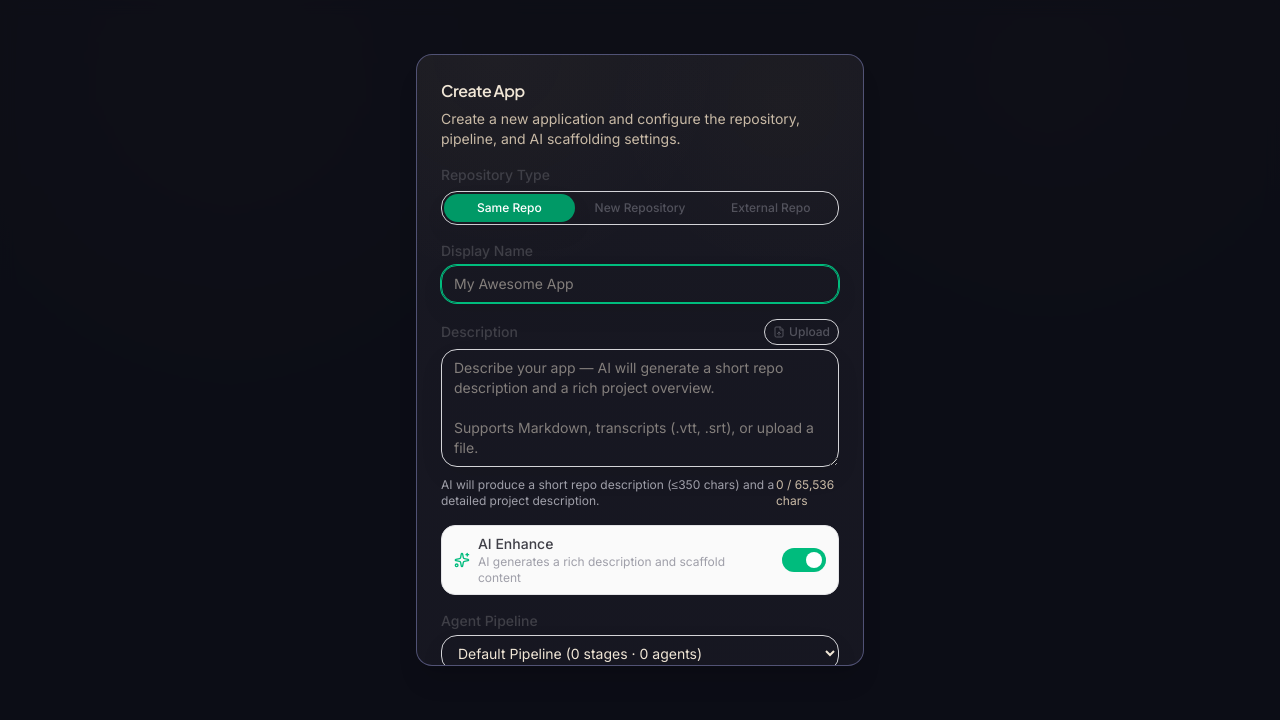
Test: CreateAppDialog — removed fields and layout changes › rejects display names that cannot produce a slug
The width and height of the screenshot is (1280, 720).
Type "!!!" into the field labelled "Display Name" at (640, 284), box [441,265,839,303]
(page scrolled)
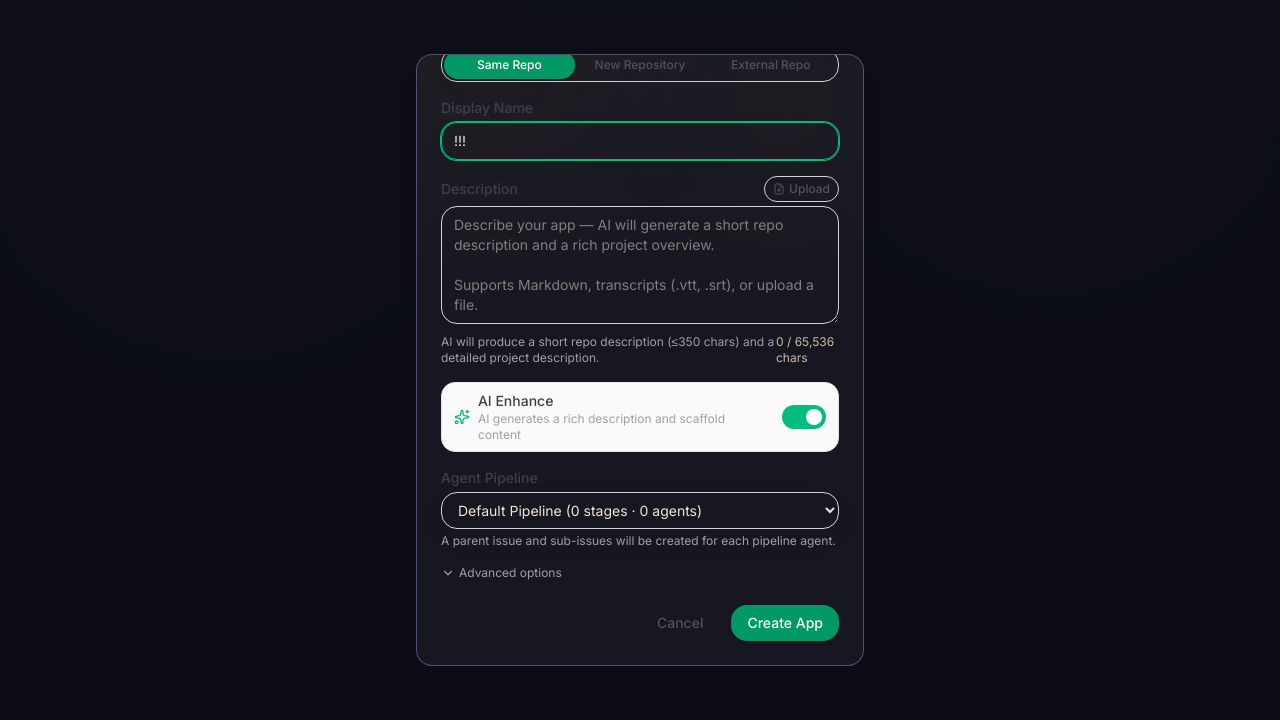
Click the button "Create App" at (785, 623), box [732,605,839,641]
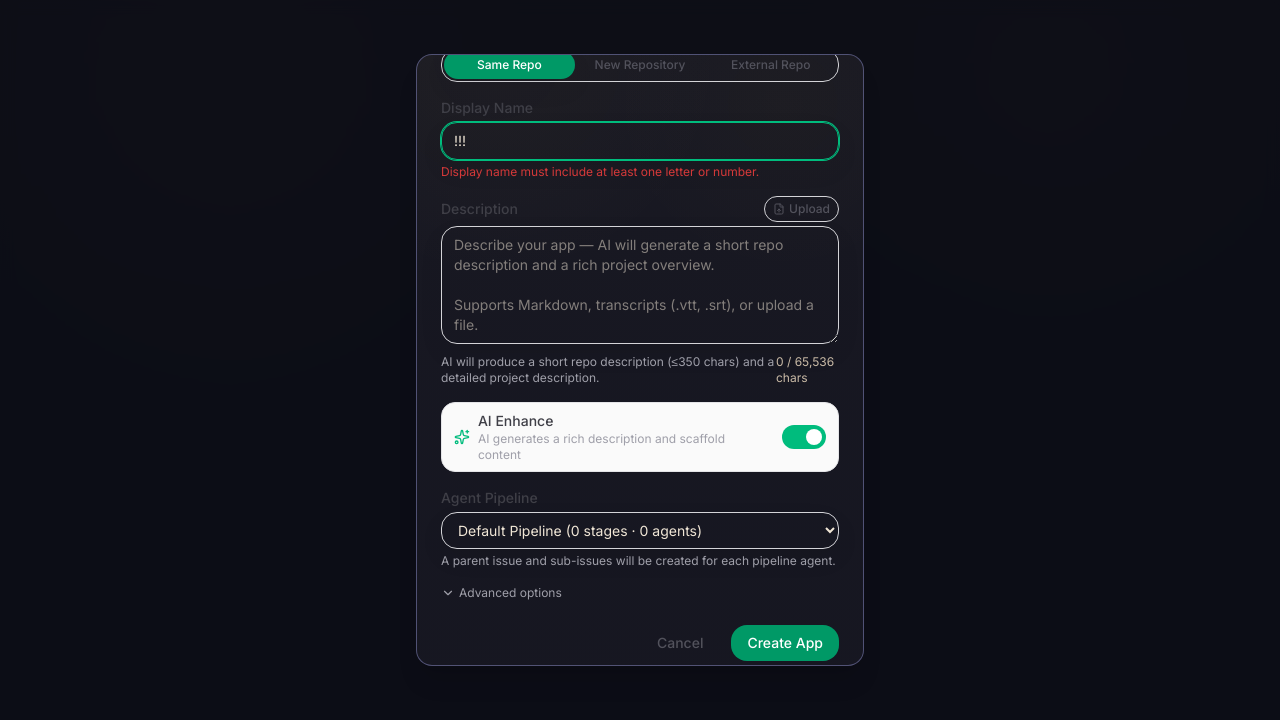
expect the text "Display name must include at least one letter or number." is shown: met, box [441,164,759,179]
